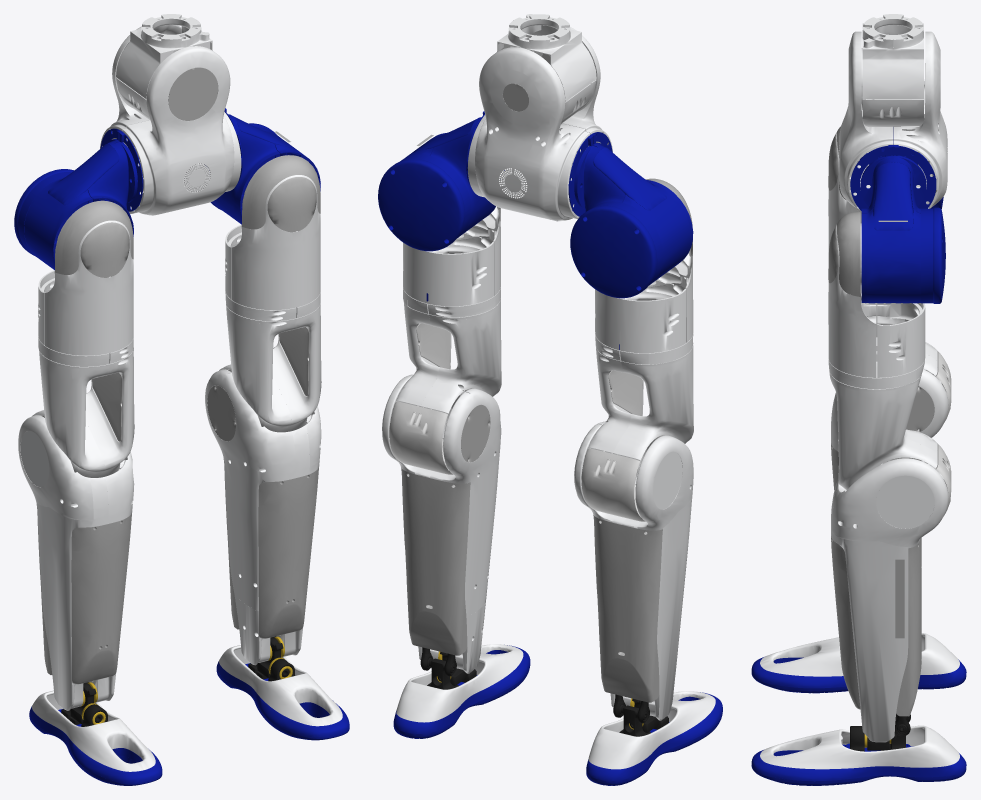
The model's file is rp1-lower-body-product-white.glb.
The picture shows the model from 3 angles, left to right: view 1: azimuth 30°, elevation 25°; view 2: azimuth 150°, elevation 25°; view 3: azimuth 270°, elevation 25°; orthographic projection. The views are drawn at different scales.
Parts seen in each view (by area): view 1: 髋部2-0914, leg-2.007, leg-1.001, leg-1.007, leg-2, leg-2.011, leg-3.002, leg-4.007, leg-1.003, leg-2.005, kuan-1.001, foot-2 (+28 smaller); view 2: kuan-re-2, leg-1.002, leg-1.008, leg-2.007, leg-1.006, leg-1.012, leg-1.003, leg-4.007, leg-1.004, 局部修改补充-0916.001, leg-3.002, leg-2.005 (+29 smaller); view 3: leg-3.005, leg-2.008, leg-1.009, foot-2, kuan-1.001, leg-3.009, leg-2.011, kuan-re-2, 髋部2-0914, foot-1, foot-2.004, 局部修改补充-0916.001 (+20 smaller).
Part boxes in pixels (box(x1,y1,x2,y2)): 髋部2-0914: box(122, 46, 241, 215); leg-2.007: box(205, 369, 295, 610); leg-1.001: box(258, 469, 318, 638); leg-1.007: box(71, 514, 131, 684); leg-2: box(45, 220, 133, 355); leg-2.011: box(232, 175, 320, 309); leg-3.002: box(37, 477, 108, 710); leg-4.007: box(219, 304, 296, 432); leg-1.003: box(32, 350, 109, 477); leg-2.005: box(18, 415, 93, 520); kuan-1.001: box(116, 14, 212, 98); foot-2: box(219, 645, 342, 726); kuan-re-2: box(468, 47, 589, 221); leg-1.002: box(593, 515, 662, 702); leg-1.008: box(401, 468, 470, 655); leg-2.007: box(430, 388, 501, 618); leg-1.006: box(570, 205, 657, 298); leg-1.012: box(378, 159, 464, 251); leg-1.003: box(613, 345, 693, 460); leg-4.007: box(421, 299, 501, 413); leg-1.004: box(595, 289, 686, 353); 局部修改补充-0916.001: box(403, 242, 494, 306); leg-3.002: box(622, 498, 692, 720); leg-2.005: box(635, 435, 693, 530); leg-3.005: box(831, 487, 908, 742); leg-2.008: box(832, 458, 948, 548); leg-1.009: box(829, 371, 937, 490); foot-2: box(760, 725, 959, 769); kuan-1.001: box(862, 14, 923, 99); leg-3.009: box(861, 208, 920, 303); leg-2.011: box(828, 223, 876, 377); kuan-re-2: box(893, 31, 947, 208); 髋部2-0914: box(839, 31, 893, 213); foot-1: box(751, 743, 966, 785); foot-2.004: box(760, 633, 959, 676); 局部修改补充-0916.001: box(877, 303, 925, 377).
Size of the model in its own units: 0.367 by 0.8957 by 0.2498.
